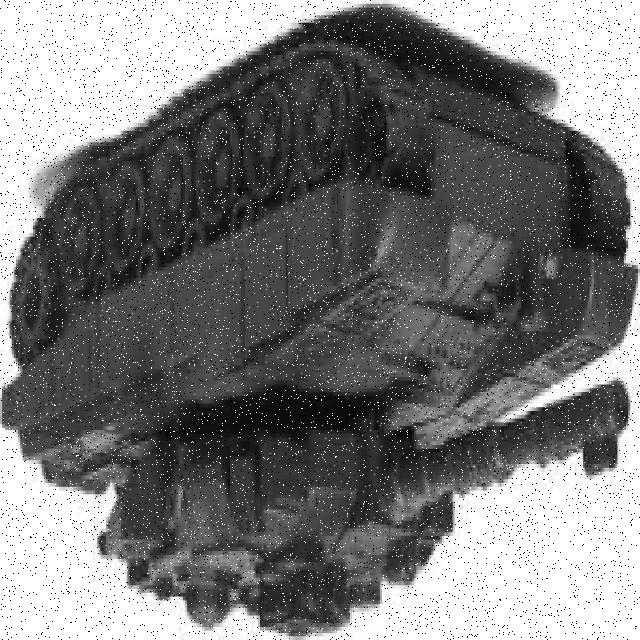MIL_MBT: (5, 25, 632, 633)
